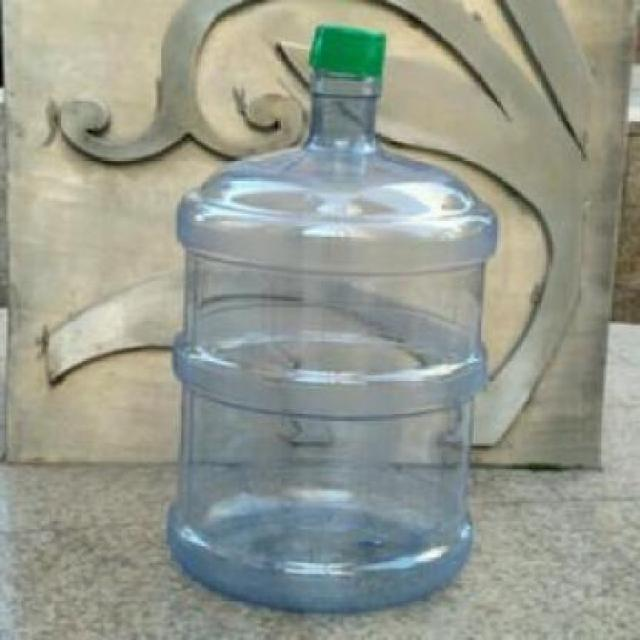coolerbottle: (158, 22, 506, 619)
